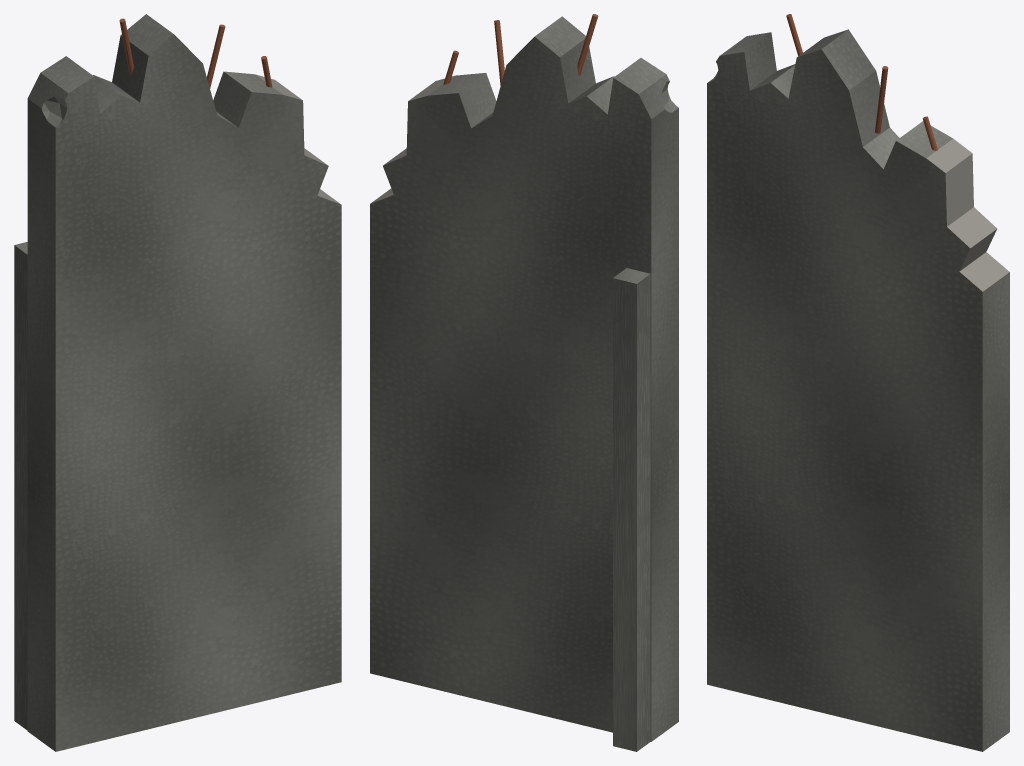
The model's file is f3_ruined_wall_floor1_v5.glb.
3 views of the same model, side by side, from view 1: azimuth 30°, elevation 25°; view 2: azimuth 150°, elevation 25°; view 3: azimuth 330°, elevation 25° (orthographic). The views are drawn at different scales.
Parts seen in each view (by area): view 1: V5 one-storey tall concrete ruin wall, V3 structural return at left seam; view 2: V5 one-storey tall concrete ruin wall, V3 structural return at left seam; view 3: V5 one-storey tall concrete ruin wall.
Boxes of the visible parts, x1,y1,x2,y2 form: V5 one-storey tall concrete ruin wall: (27, 14, 341, 751); V3 structural return at left seam: (14, 242, 27, 730); V5 one-storey tall concrete ruin wall: (370, 16, 678, 741); V3 structural return at left seam: (613, 268, 650, 751); V5 one-storey tall concrete ruin wall: (707, 29, 1009, 751).
Size of the model in its own units: 2 by 4.72 by 0.51.
Materials: 4 (2 with a texture image).
